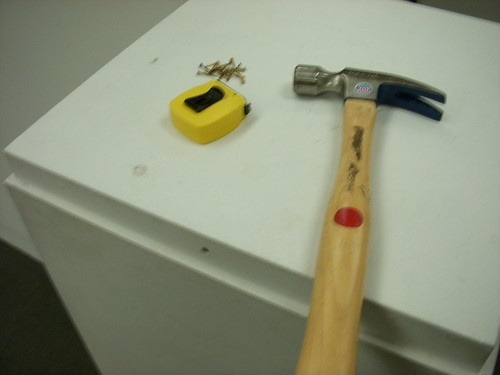hammer: (290, 57, 444, 374)
